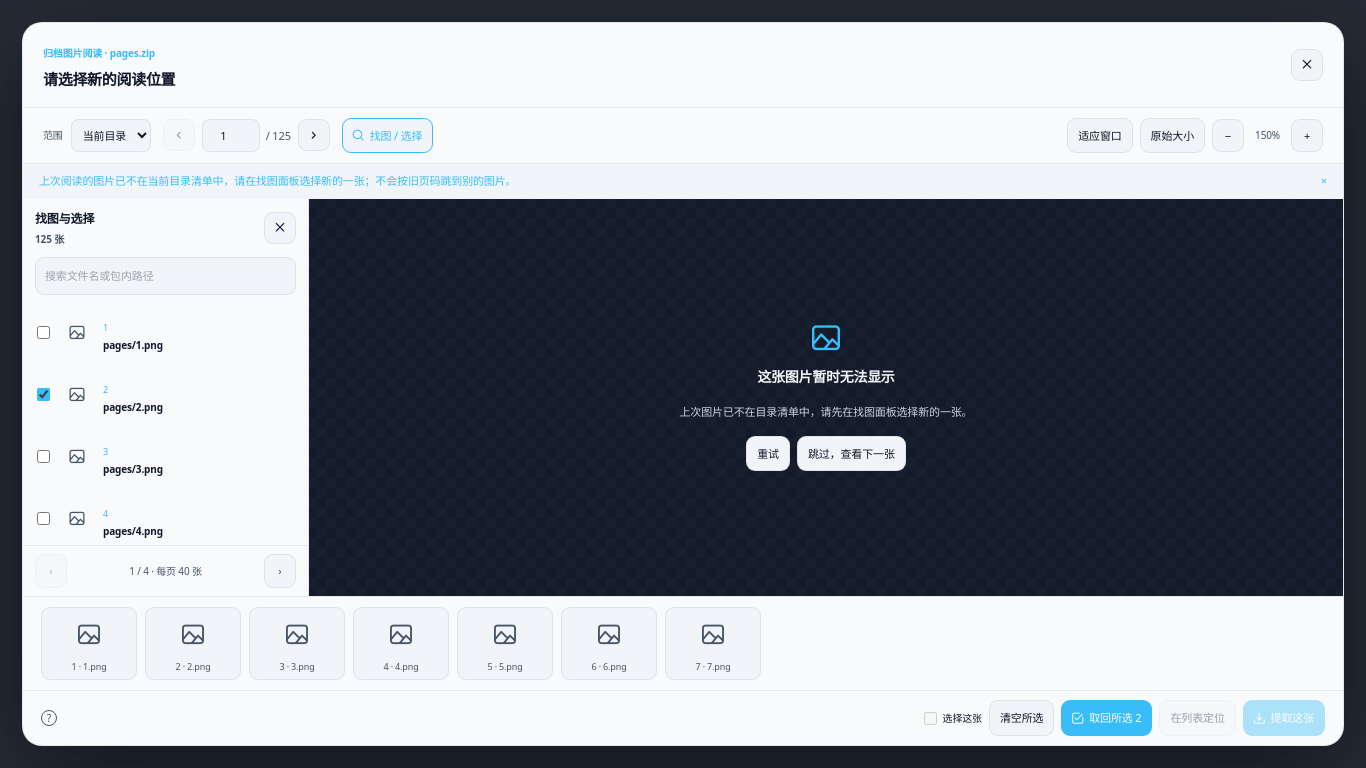
Test: reader1558 missing original page asks for a new choice rather than jumping to the old page number
expect the message with test id "reader-resume-notice" shows "不会按旧页码": met, box [39,173,516,188]
expect the element with test id "reader-finder" is shown: met, box [23,199,309,596]
Click the button with class "finder-item" showing "1 pages/1.png" at (176, 333), box [57,310,294,356]
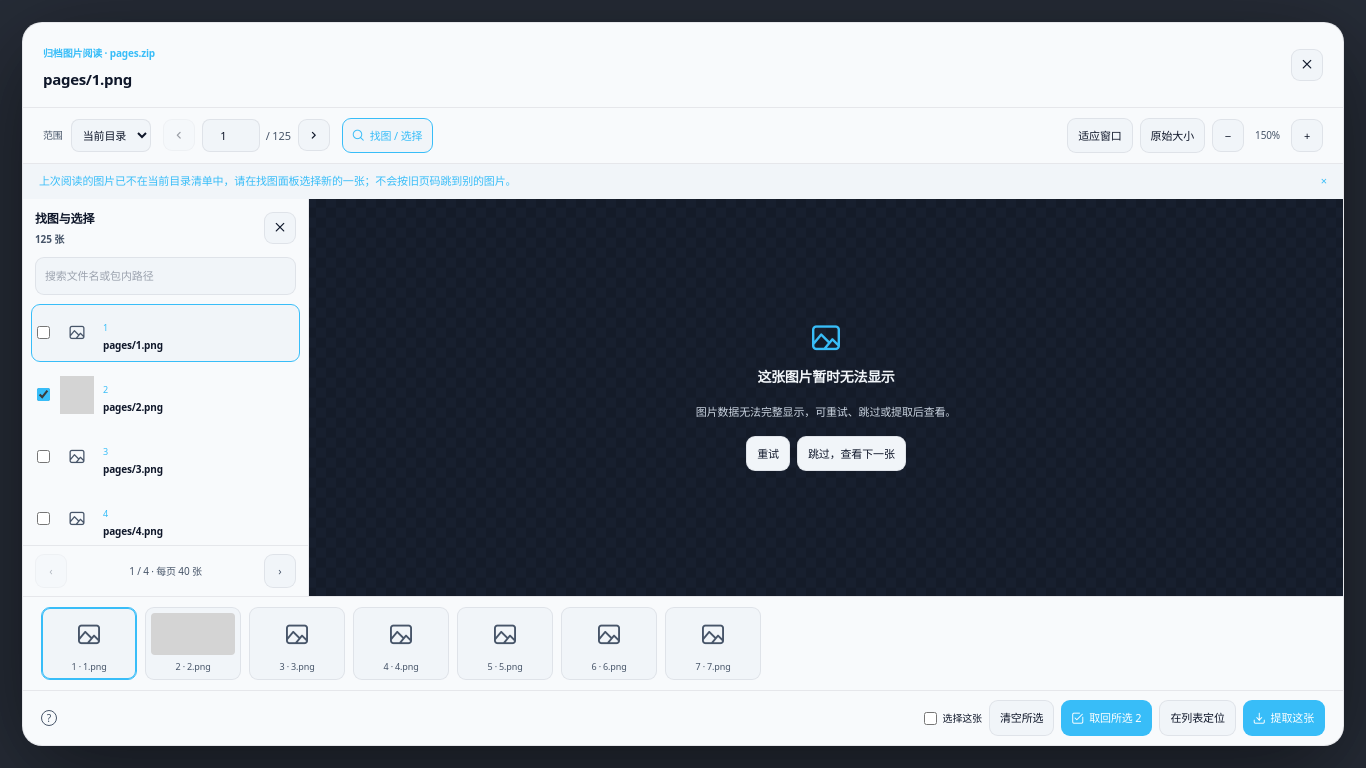
expect the heading with test id "reader-current-path" reads "pages/1.png": met, box [43,69,132,89]
